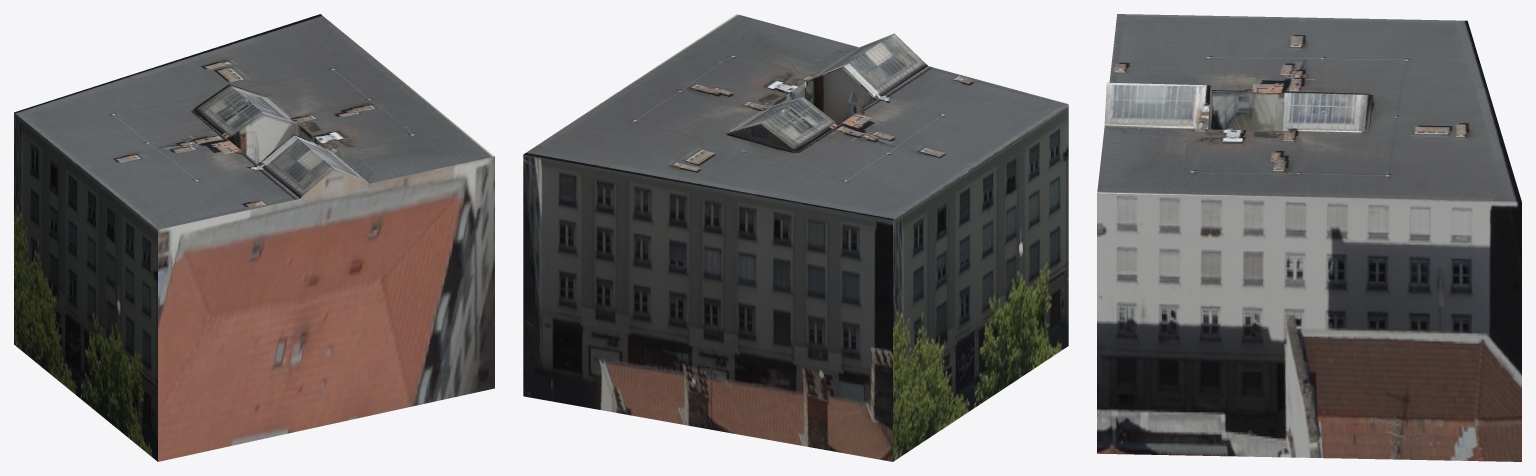
The picture shows the model from 3 angles, left to right: view 1: azimuth 30°, elevation 25°; view 2: azimuth 150°, elevation 25°; view 3: azimuth 270°, elevation 25°; orthographic projection. The views are drawn at different scales.
Parts seen in each view (by area): view 1: Z_UP; view 2: Z_UP; view 3: Z_UP.
Boxes of the visible parts, x1=… form: Z_UP: x1=14, y1=14, x2=494, y2=461; Z_UP: x1=523, y1=14, x2=1068, y2=461; Z_UP: x1=1097, y1=14, x2=1521, y2=461.
Bounding box in the file's own units: 25.16 × 17.86 × 24.06.
2 materials, 1 textured.
